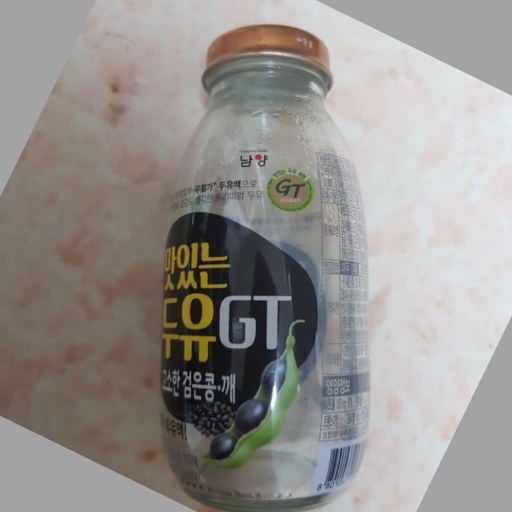Glass_4: (153, 24, 369, 503)
